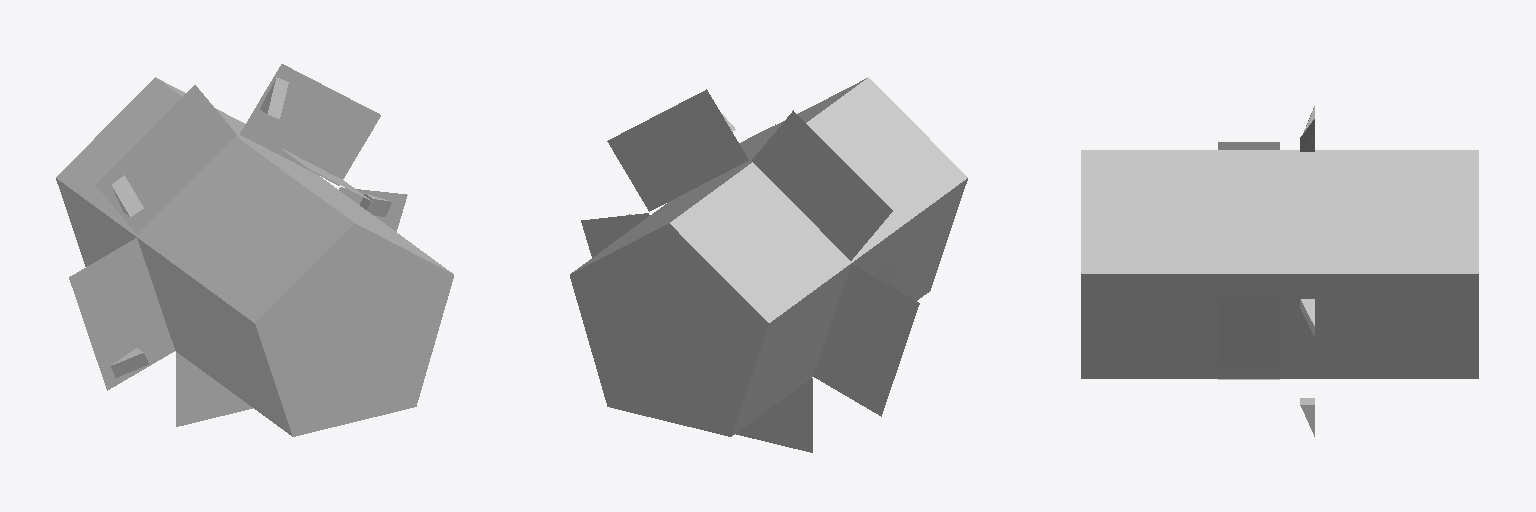
The model's file is interfaceSimple.obj.
3 renders of one model, left to right at view 1: azimuth 30°, elevation 25°; view 2: azimuth 150°, elevation 25°; view 3: azimuth 270°, elevation 25°, orthographic.
Parts seen in each view (by area): view 1: Object.1; view 2: Object.1; view 3: Object.1.
Boxes of the visible parts, x1=… form: Object.1: x1=56, y1=64, x2=453, y2=436; Object.1: x1=570, y1=77, x2=967, y2=452; Object.1: x1=1081, y1=106, x2=1478, y2=436.
Bounding box in the file's own units: 82.01 × 78.13 × 83.48.